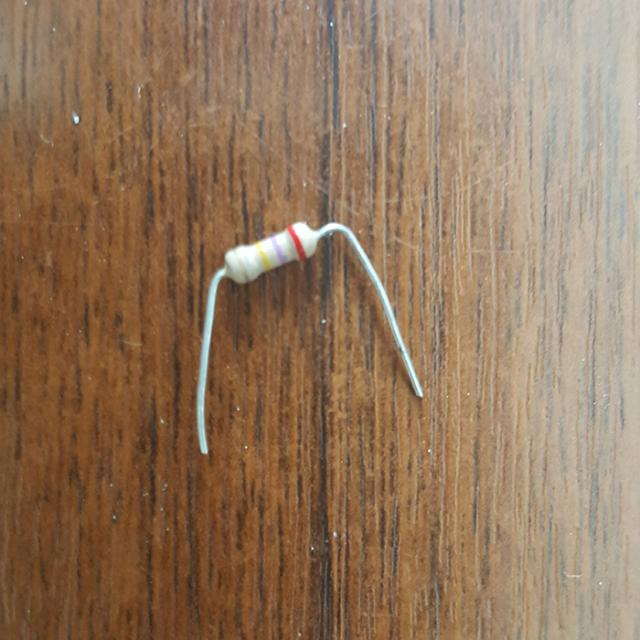gold: (233, 247, 251, 281)
red: (287, 226, 305, 258)
resistor: (201, 202, 336, 306)
violet: (271, 234, 285, 261)
yellow: (257, 241, 270, 270)
